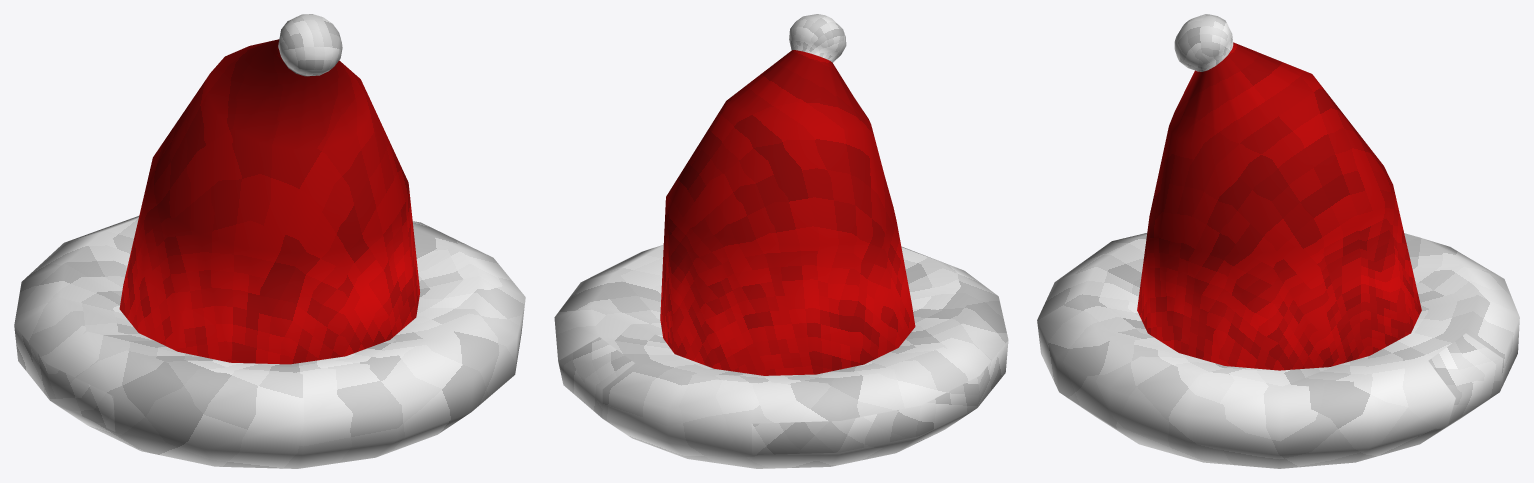
Rendered from christmas_hat.obj.
The picture shows the model from 3 angles, left to right: view 1: azimuth 30°, elevation 25°; view 2: azimuth 150°, elevation 25°; view 3: azimuth 270°, elevation 25°; orthographic projection. The views are drawn at different scales.
Visible parts, largest first — view 1: ChristmasHat; view 2: ChristmasHat; view 3: ChristmasHat.
Part boxes in pixels (x1,y1,x2,y2): ChristmasHat: [14, 14, 525, 468]; ChristmasHat: [554, 14, 1008, 468]; ChristmasHat: [1037, 14, 1519, 468].
Size of the model in its own units: 0.2803 by 0.2346 by 0.279.
Materials: 1 (1 with a texture image).
